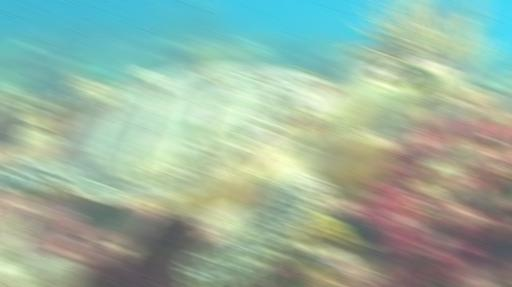Fish: (0, 56, 461, 286)
